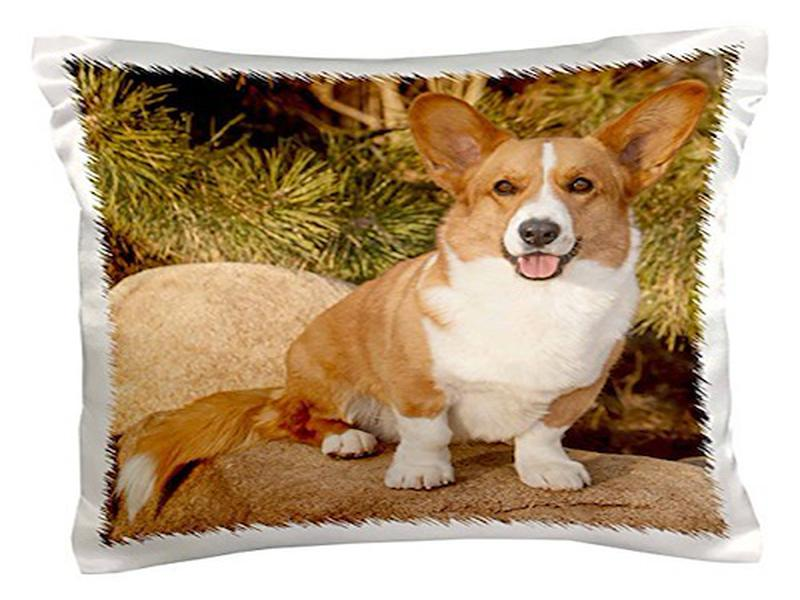corgi: (406, 76, 708, 285)
